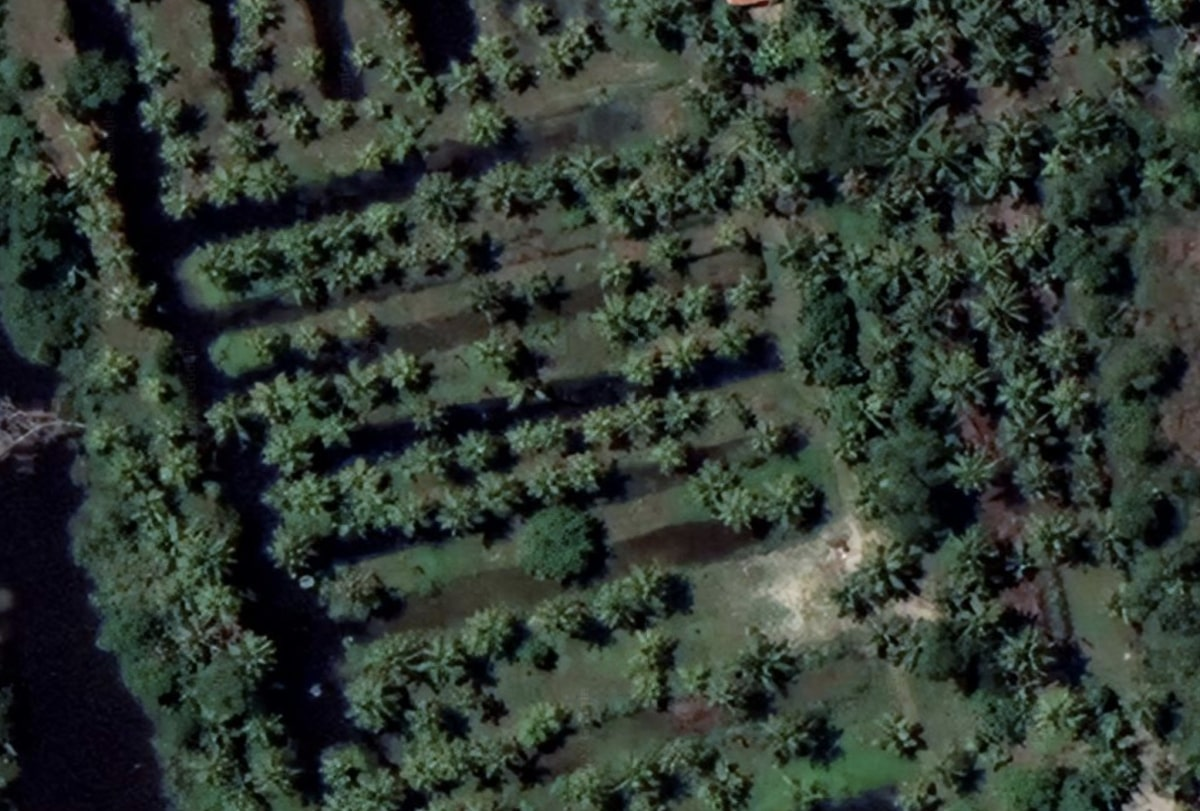coconut: (475, 161, 536, 217), (894, 15, 958, 67), (368, 637, 433, 687), (738, 630, 790, 691), (974, 42, 1034, 94), (972, 281, 1027, 337), (410, 171, 467, 223), (1078, 508, 1129, 566), (768, 471, 827, 521), (942, 450, 998, 498), (618, 561, 673, 609), (342, 673, 400, 717), (239, 155, 298, 198), (329, 357, 380, 406), (623, 282, 677, 328), (261, 529, 316, 574), (377, 348, 429, 395), (375, 491, 430, 535), (178, 532, 227, 580), (208, 391, 255, 441), (568, 148, 615, 198), (691, 451, 738, 501), (557, 450, 603, 501), (87, 341, 134, 390), (1004, 217, 1051, 266), (475, 468, 521, 518), (583, 296, 633, 342), (744, 410, 801, 450), (277, 473, 328, 517), (185, 241, 232, 288), (715, 481, 759, 529), (65, 149, 119, 188), (94, 278, 148, 317), (445, 430, 501, 467), (609, 188, 654, 233), (243, 376, 290, 419), (537, 592, 585, 634), (303, 214, 357, 251), (401, 441, 452, 480), (151, 134, 206, 170), (141, 91, 191, 130), (337, 462, 388, 500), (872, 243, 913, 290), (74, 196, 122, 236), (438, 487, 478, 535), (508, 417, 561, 453), (997, 374, 1041, 417), (357, 201, 408, 237), (623, 395, 660, 444), (347, 243, 393, 282), (493, 51, 534, 93), (473, 336, 517, 375), (289, 268, 334, 305), (228, 232, 266, 275), (134, 50, 182, 84), (583, 408, 622, 449), (220, 117, 268, 150), (464, 102, 504, 141), (160, 443, 201, 481), (242, 78, 284, 115), (407, 71, 444, 113), (680, 286, 722, 323), (91, 238, 139, 270), (271, 226, 311, 264), (600, 251, 640, 289), (924, 252, 962, 292), (448, 58, 484, 100), (425, 228, 469, 262), (128, 488, 165, 528), (198, 164, 239, 199), (562, 15, 601, 51), (549, 42, 584, 81), (522, 462, 554, 504), (732, 277, 774, 307), (94, 422, 132, 453)
